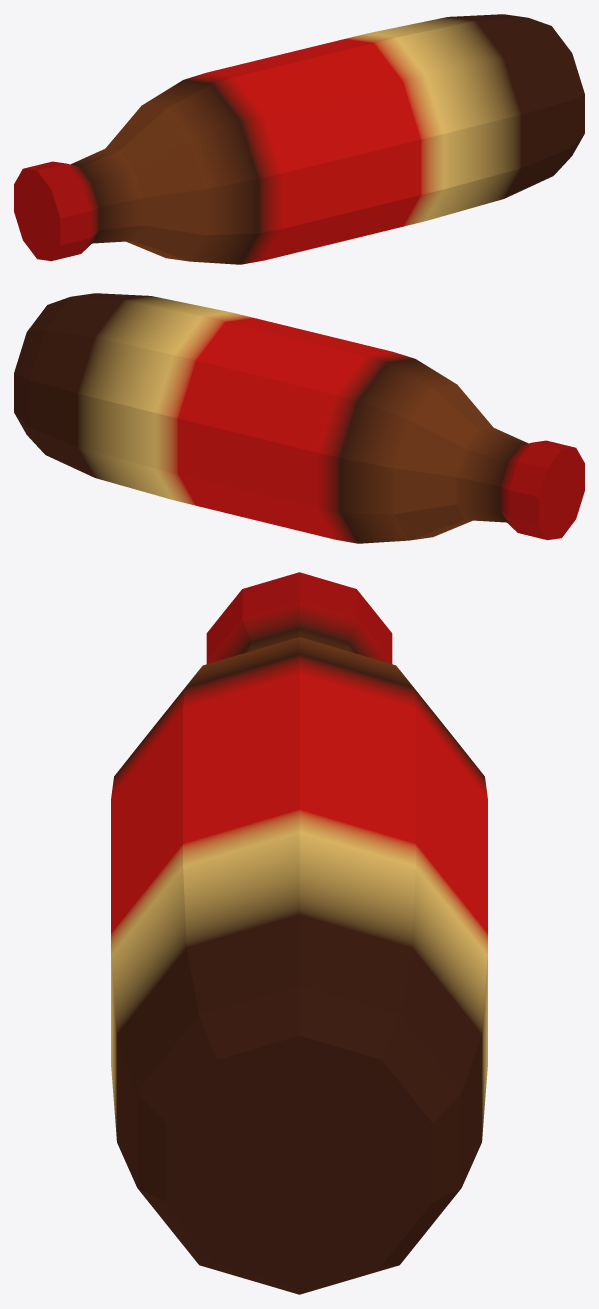
The model's file is ColaBottle.glb.
3 views of the same model, one above another, from view 1: azimuth 30°, elevation 25°; view 2: azimuth 150°, elevation 25°; view 3: azimuth 270°, elevation 25° (orthographic). The views are drawn at different scales.
Parts seen in each view (by area): view 1: ColaBottle; view 2: ColaBottle; view 3: ColaBottle.
Boxes of the visible parts, x1=… form: ColaBottle: x1=14, y1=14, x2=584, y2=264; ColaBottle: x1=14, y1=293, x2=584, y2=543; ColaBottle: x1=111, y1=572, x2=487, y2=1294.
Bounding box in the file's own units: 0.78 × 0.26 × 0.2473.
